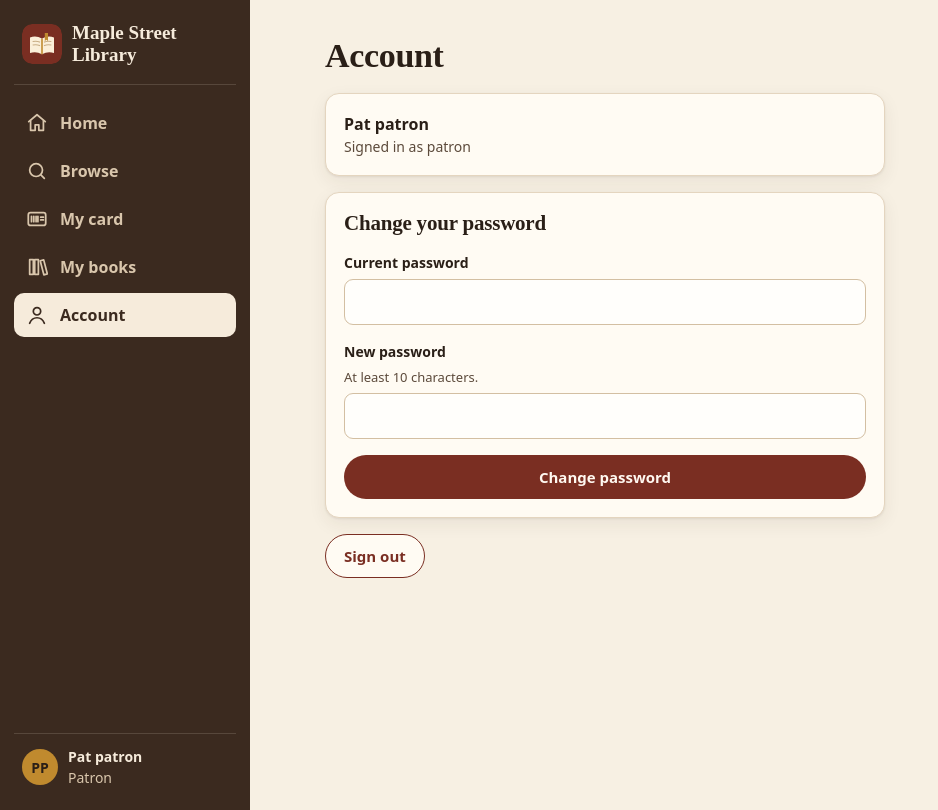
Test: ACCESS-5 Sign in › signing out ends the session, empties the app's caches and returns to sign in
Click the button "Sign out". click: {"x": 375, "y": 556}
box: [325, 534, 425, 578]
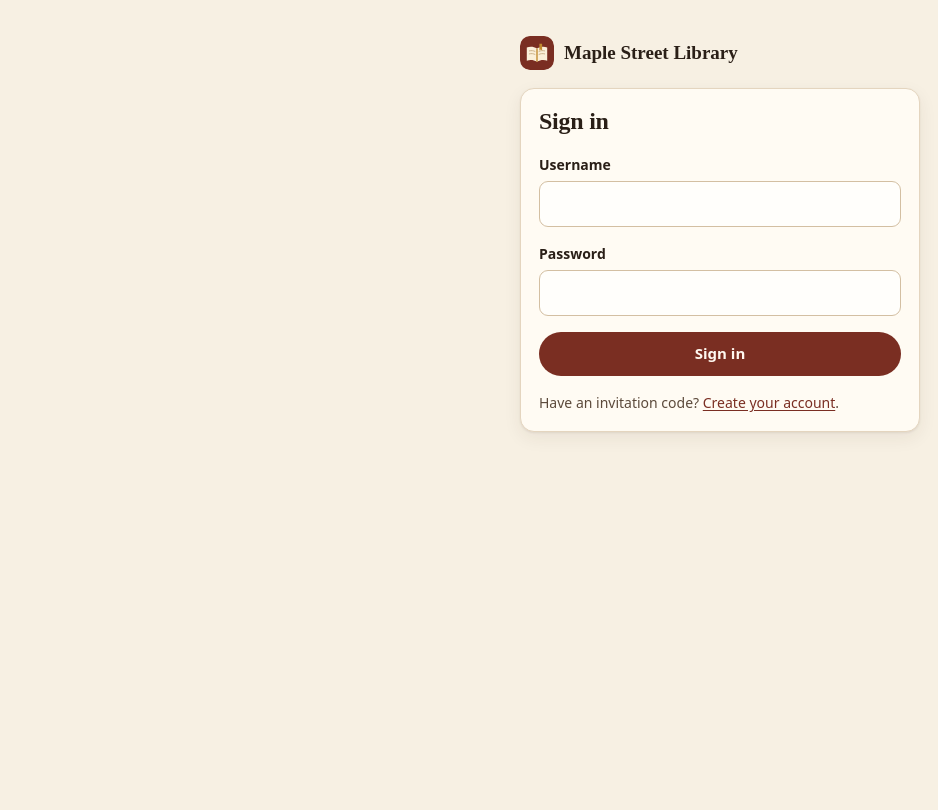
Now the heading "Sign in" is shown, box [539, 108, 609, 134]
Now the navigation bar "Main" is gone
